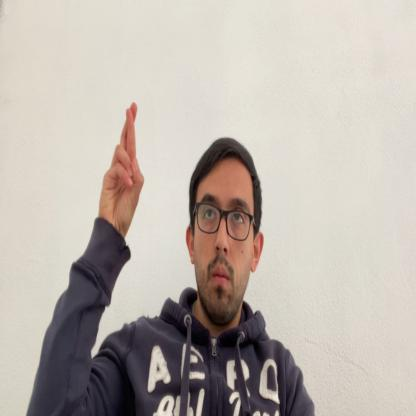R: (98, 102, 145, 232)
